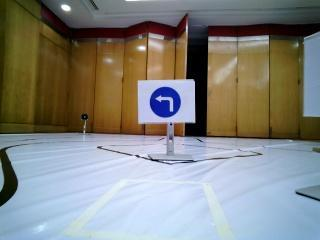left: (143, 85, 193, 120)
